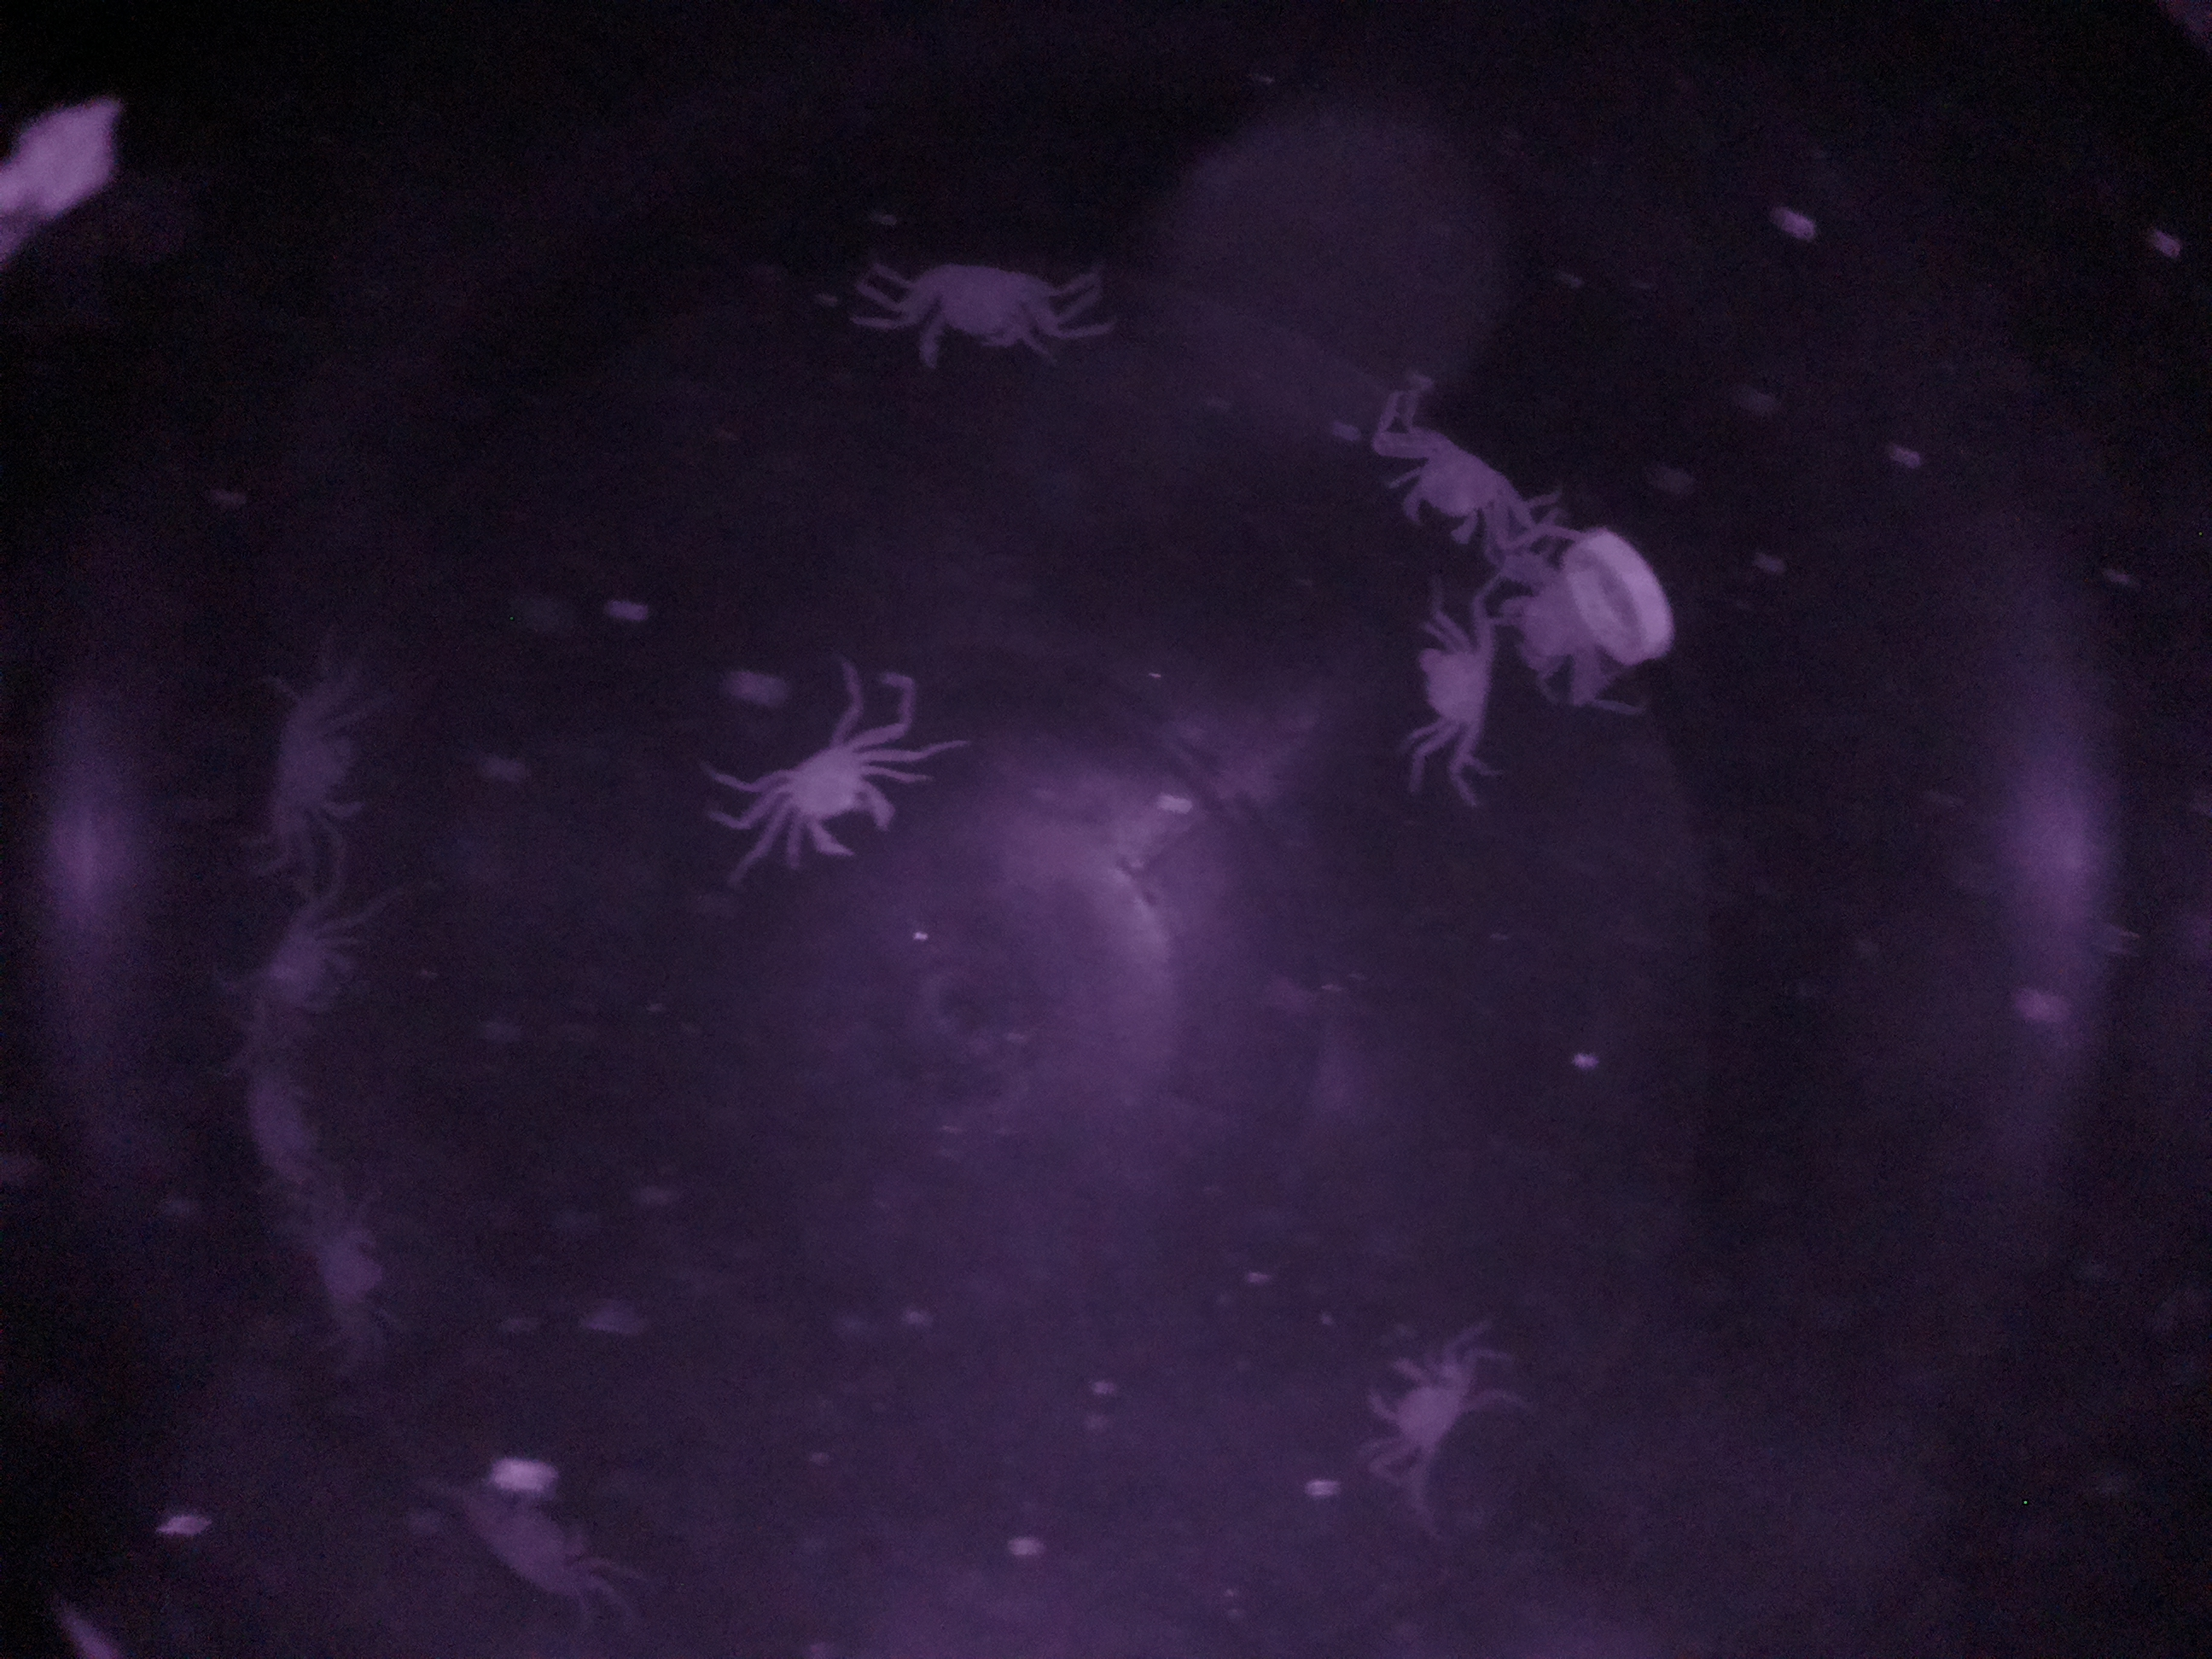Crab: (864, 228, 1087, 397), (733, 680, 914, 887), (1343, 1333, 1519, 1500), (1371, 401, 1557, 556), (1392, 582, 1543, 770)
